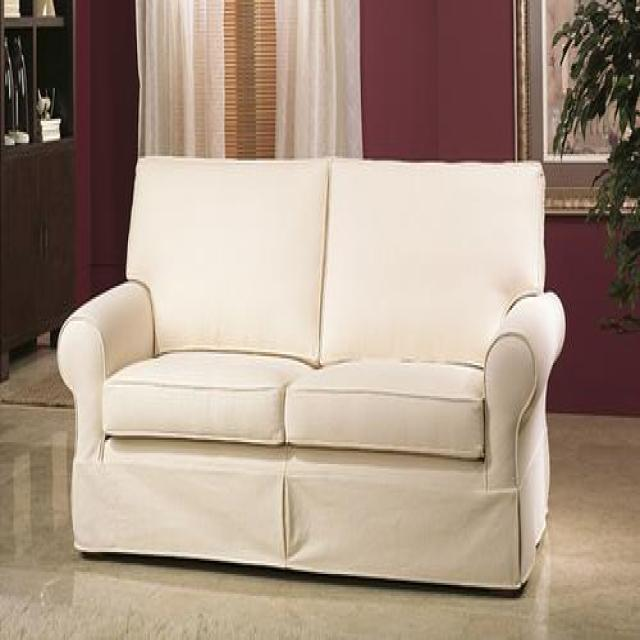sofa: (55, 153, 566, 595)
